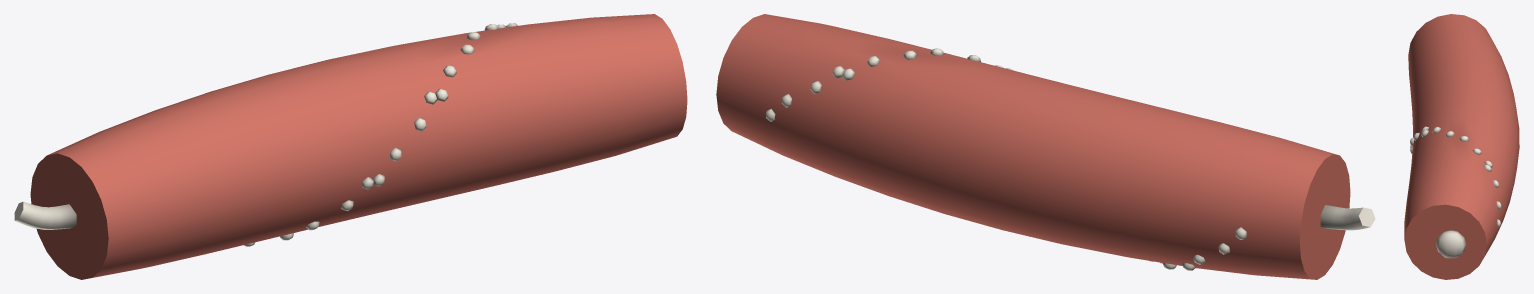
The model's file is food_cucumber.glb.
3 views of the same model, side by side, from view 1: azimuth 30°, elevation 25°; view 2: azimuth 150°, elevation 25°; view 3: azimuth 270°, elevation 25° (orthographic). The views are drawn at different scales.
Parts seen in each view (by area): view 1: PART; view 2: PART; view 3: PART.
Boxes of the visible parts, bbox=[...] form: PART: bbox=[14, 14, 687, 279]; PART: bbox=[716, 14, 1375, 279]; PART: bbox=[1404, 14, 1519, 279].
Size of the model in its own units: 0.2838 by 0.0624 by 0.0651.
